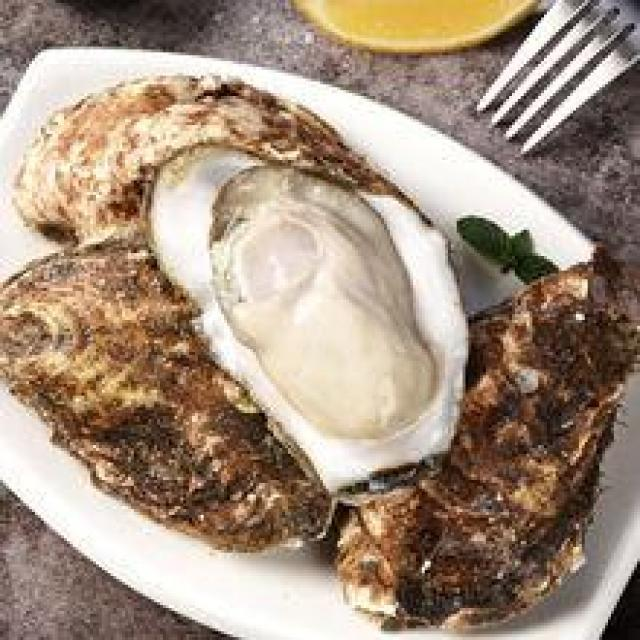Oyster- Indeterminate: (329, 243, 640, 640), (0, 238, 337, 555), (10, 67, 435, 241)
Oyster-Open: (141, 142, 470, 502)
